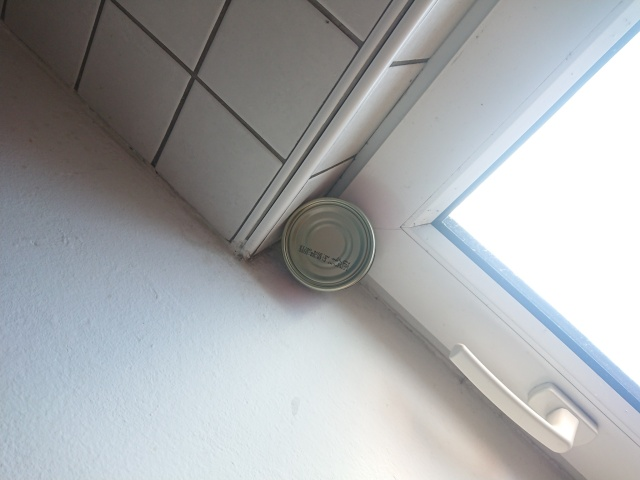Giana Tuna Salad Mexico 185g: (280, 195, 378, 296)
